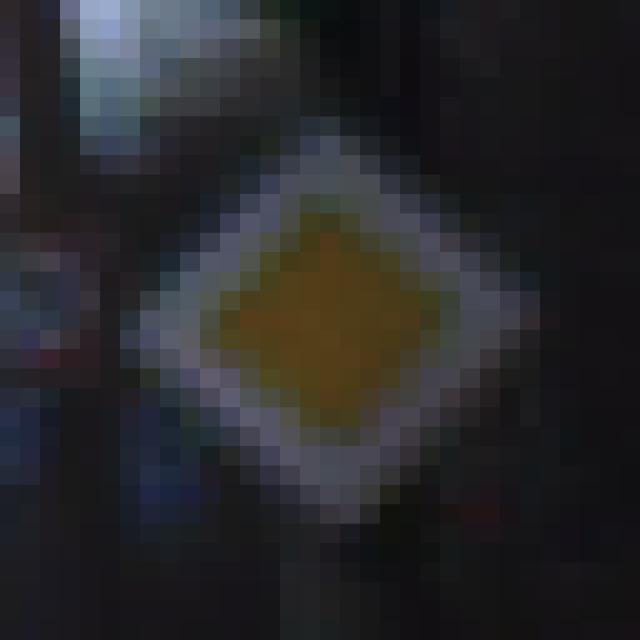Main Road: (101, 117, 541, 544)
